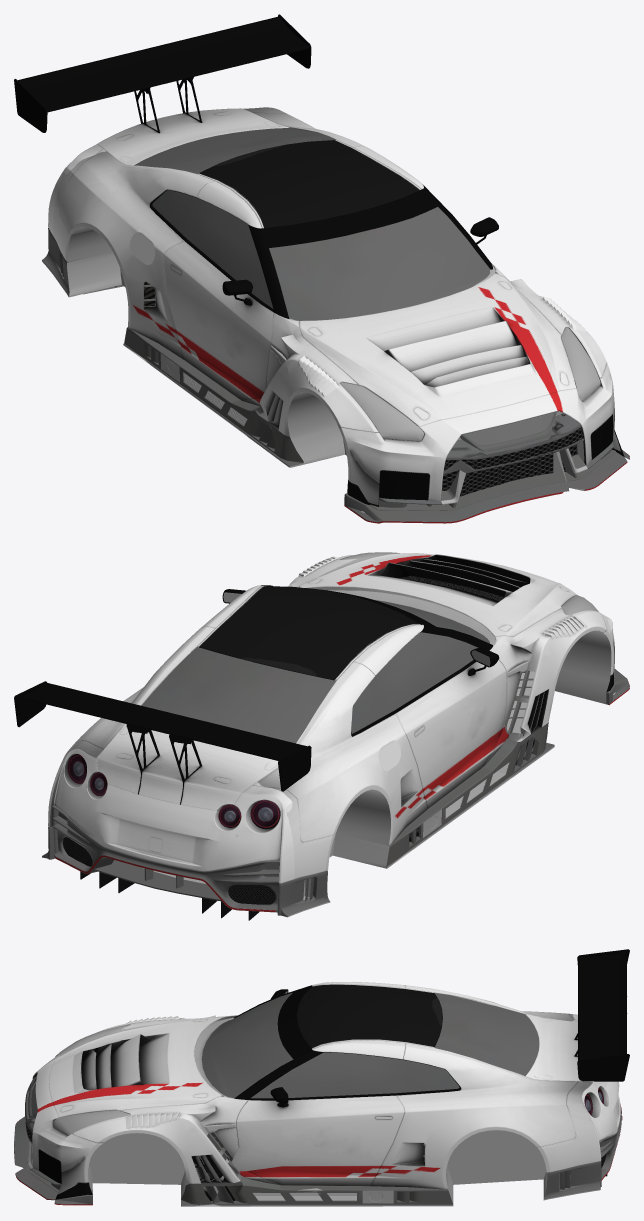
File: NewCar.fbx
3 renders of one model, top to bottom at view 1: azimuth 30°, elevation 25°; view 2: azimuth 150°, elevation 25°; view 3: azimuth 270°, elevation 25°, orthographic. The views are drawn at different scales.
Visible parts, largest first — view 1: pasted__body; view 2: pasted__body; view 3: pasted__body.
Boxes of the visible parts, x1,y1,x2,y2 form: pasted__body: (14,14,629,523); pasted__body: (14,552,629,920); pasted__body: (14,949,629,1206).
Size of the model in its own units: 260 by 172 by 629.
